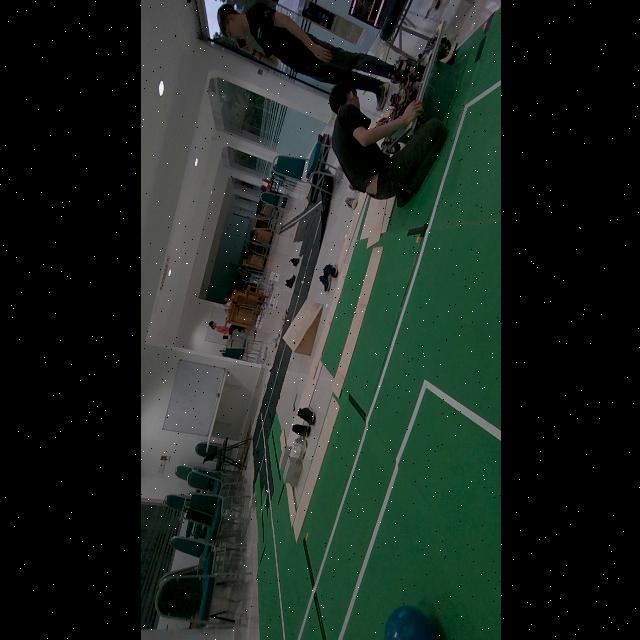B: (384, 606, 436, 640)
